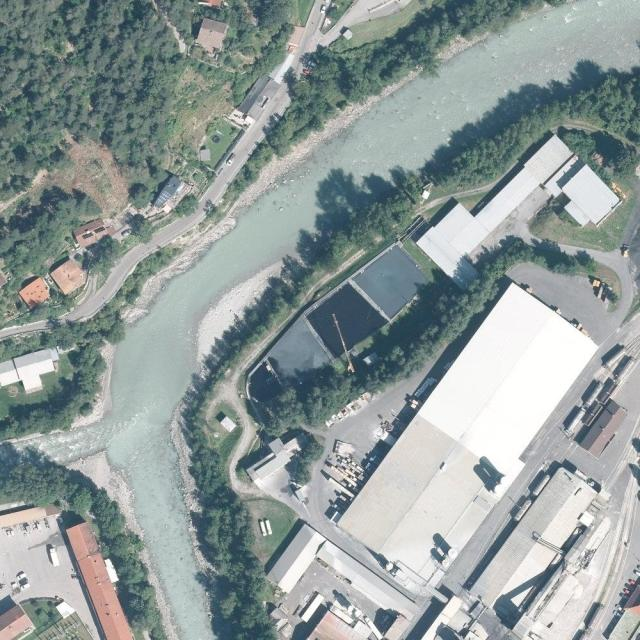building: (337, 282, 608, 594), (468, 463, 603, 623), (262, 519, 426, 640), (553, 164, 622, 234), (474, 167, 541, 233), (415, 226, 480, 291), (242, 426, 306, 489), (560, 165, 620, 226), (228, 71, 283, 133), (578, 399, 629, 459), (522, 133, 575, 185), (14, 346, 67, 395), (152, 174, 193, 219), (449, 217, 490, 258), (434, 202, 475, 243), (306, 611, 366, 639), (71, 213, 115, 250), (49, 256, 89, 296), (17, 275, 54, 310), (195, 17, 229, 54), (0, 360, 20, 388)
greenland: (248, 204, 573, 461), (240, 0, 548, 156), (406, 48, 640, 199), (171, 250, 318, 416), (271, 137, 436, 278), (183, 440, 274, 640), (0, 336, 127, 469), (253, 357, 366, 443), (220, 24, 303, 105), (529, 194, 638, 254), (108, 235, 181, 313), (8, 283, 79, 345), (217, 140, 278, 210), (72, 226, 127, 283), (179, 43, 234, 96), (281, 433, 333, 489), (194, 117, 240, 169), (248, 0, 294, 33), (315, 0, 354, 35), (172, 191, 203, 223), (130, 212, 155, 244), (205, 204, 225, 224)
metalled_road: (62, 81, 309, 343), (317, 365, 447, 470), (505, 238, 628, 346), (281, 461, 380, 587), (481, 185, 564, 268), (310, 0, 413, 48), (588, 238, 640, 328), (559, 244, 583, 255)
